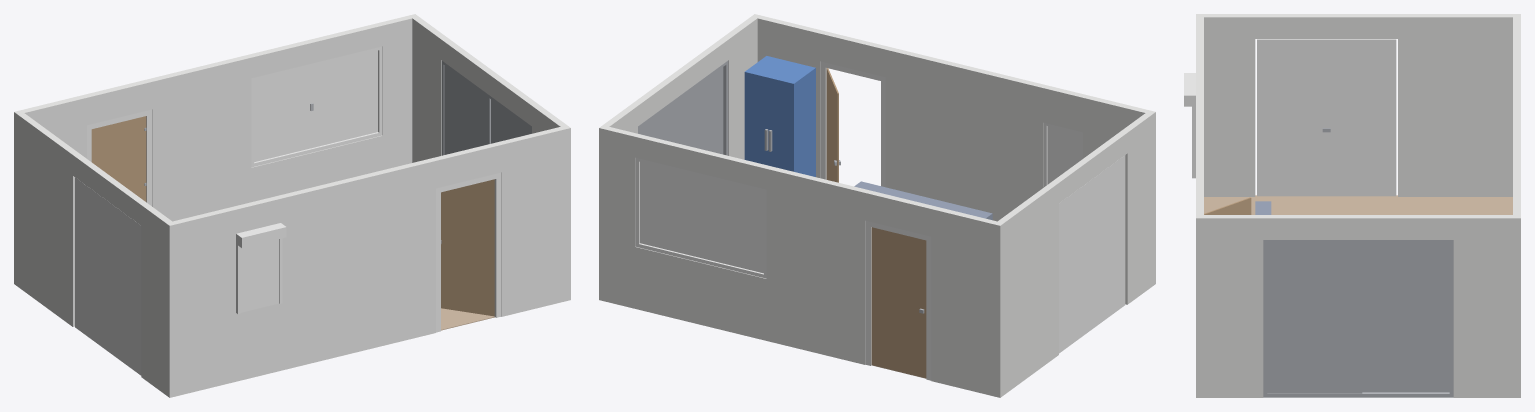
Rendered from openings.glb.
3 renders of one model, left to right at view 1: azimuth 30°, elevation 25°; view 2: azimuth 150°, elevation 25°; view 3: azimuth 270°, elevation 25°, orthographic. The views are drawn at different scales.
Parts seen in each view (by area): view 1: wall_2_4, wall_0_3, wall_2_1, wall_2_6, wall_3_1, Garage_1, Porte_Chambre_2, wall_3_3, Fenetre_Salon_3, Fenetre_Salon_2, wall_0_4, wall_0_6 (+21 smaller); view 2: wall_2_4, wall_0_3, wall_0_1, wall_3_1, Garage_1, wall_0_4, Porte_Cuisine_2, Armoire_Chambre_1, wall_0_6, wall_3_3, Fenetre_Salon_3, Fenetre_Salon_2 (+19 smaller); view 3: Garage_1, wall_3_1, Baie_Salon_3, Baie_Salon_2, wall_1_3, wall_1_1, wall_3_3, room_0_1, wall_1_2, wall_3_2, Baie_Salon_1, wall_2_6 (+6 smaller).
Boxes of the visible parts, left/top/right/bottom form: wall_2_4: left=275, top=158, right=435, bottom=371; wall_0_3: left=149, top=55, right=251, bottom=221; wall_2_1: left=166, top=206, right=238, bottom=397; wall_2_6: left=498, top=125, right=570, bottom=316; wall_3_1: left=14, top=112, right=78, bottom=326; Garage_1: left=75, top=177, right=141, bottom=375; Porte_Chambre_2: left=441, top=179, right=494, bottom=316; wall_3_3: left=141, top=203, right=176, bottom=397; Fenetre_Salon_3: left=315, top=50, right=377, bottom=146; Fenetre_Salon_2: left=254, top=66, right=315, bottom=161; wall_0_4: left=251, top=135, right=382, bottom=201; wall_0_6: left=379, top=14, right=418, bottom=169; wall_2_4: left=885, top=47, right=1046, bottom=221; wall_0_3: left=766, top=166, right=868, bottom=364; wall_0_1: left=931, top=206, right=1003, bottom=397; wall_3_1: left=993, top=181, right=1058, bottom=397; Garage_1: left=1059, top=155, right=1125, bottom=353; wall_0_4: left=635, top=246, right=766, bottom=340; Porte_Cuisine_2: left=871, top=227, right=926, bottom=377; Armoire_Chambre_1: left=744, top=56, right=815, bottom=176; wall_0_6: left=599, top=125, right=638, bottom=308; wall_3_3: left=1121, top=112, right=1155, bottom=304; Fenetre_Salon_3: left=640, top=161, right=702, bottom=258; Fenetre_Salon_2: left=702, top=177, right=763, bottom=273; Garage_1: left=1257, top=39, right=1396, bottom=196; wall_3_1: left=1398, top=14, right=1520, bottom=196; Baie_Salon_3: left=1267, top=243, right=1362, bottom=393; Baie_Salon_2: left=1362, top=243, right=1449, bottom=392; wall_1_3: left=1196, top=215, right=1263, bottom=397; wall_1_1: left=1453, top=215, right=1520, bottom=397; wall_3_3: left=1196, top=14, right=1255, bottom=196; room_0_1: left=1204, top=195, right=1512, bottom=214; wall_1_2: left=1263, top=215, right=1453, bottom=239; wall_3_2: left=1255, top=14, right=1397, bottom=38; Baie_Salon_1: left=1263, top=240, right=1453, bottom=397; wall_2_6: left=1196, top=183, right=1203, bottom=397.
Size of the model in its own units: 610 by 251 by 425.
